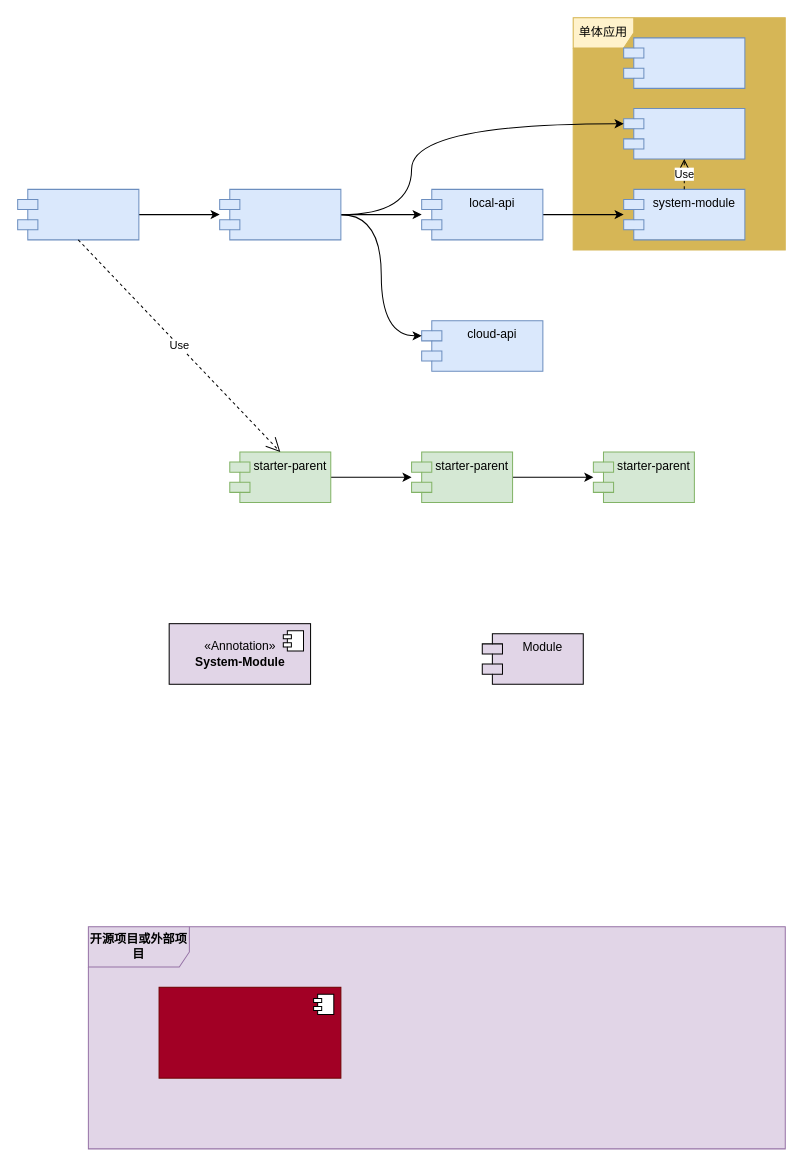
Image size: 803x1167. Some labels were removed from this diagram. The centre of each missing label's shape, as x and y in pixels:
"base-core" belongs at (280,214).
"base-parent" belongs at (78,214).
"system-demo" belongs at (684,133).
"«Annotation» Component" belongs at (249,1032).
"单体应用,功能扩展" belongs at (684,62).
